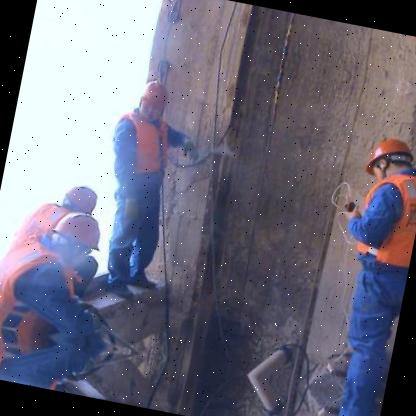capacete: (360, 122, 410, 180), (52, 208, 112, 256), (61, 176, 105, 216), (133, 74, 172, 115)
